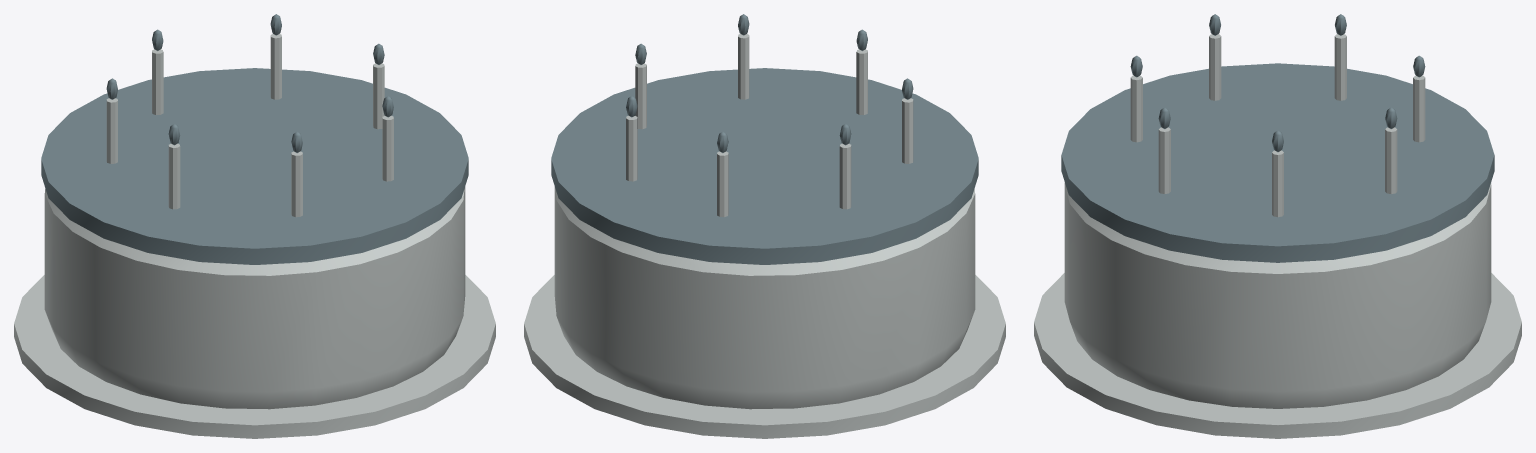
File: birthday-cake.glb
The picture shows the model from 3 angles, left to right: view 1: azimuth 30°, elevation 25°; view 2: azimuth 150°, elevation 25°; view 3: azimuth 270°, elevation 25°; orthographic projection.
Parts seen in each view (by area): view 1: icing_top, cake_sponge, cake_board, candle_3, candle_1, candle_2, candle_6, candle_4, candle_5, candle_0; view 2: icing_top, cake_sponge, cake_board, candle_4, candle_1, candle_5, candle_6, candle_2, candle_3, candle_0; view 3: icing_top, cake_sponge, cake_board, candle_2, candle_5, candle_1, candle_3, candle_4, candle_6, candle_0.
Part boxes in pixels (x1,y1,x2,y2): icing_top: [41, 68, 468, 264]; cake_sponge: [44, 187, 465, 409]; cake_board: [14, 275, 495, 438]; candle_3: [168, 143, 180, 209]; candle_1: [382, 115, 393, 181]; candle_2: [291, 151, 302, 217]; candle_6: [270, 34, 281, 99]; candle_4: [106, 98, 117, 163]; candle_5: [152, 49, 163, 114]; candle_0: [373, 63, 384, 129]; icing_top: [551, 68, 978, 264]; cake_sponge: [554, 187, 975, 409]; cake_board: [524, 275, 1005, 438]; candle_4: [839, 143, 851, 209]; candle_1: [738, 34, 749, 99]; candle_5: [717, 151, 728, 217]; candle_6: [626, 115, 637, 181]; candle_2: [856, 49, 867, 114]; candle_3: [902, 98, 913, 163]; candle_0: [635, 63, 646, 129]; icing_top: [1061, 63, 1494, 262]; cake_sponge: [1064, 183, 1491, 408]; cake_board: [1034, 273, 1521, 438]; candle_2: [1130, 75, 1142, 142]; candle_5: [1413, 75, 1425, 142]; candle_1: [1158, 127, 1170, 194]; candle_3: [1209, 34, 1221, 100]; candle_4: [1334, 34, 1346, 100]; candle_6: [1385, 127, 1397, 194]; candle_0: [1272, 150, 1283, 217].
Size of the model in its own units: 0.32 by 0.193 by 0.32.
